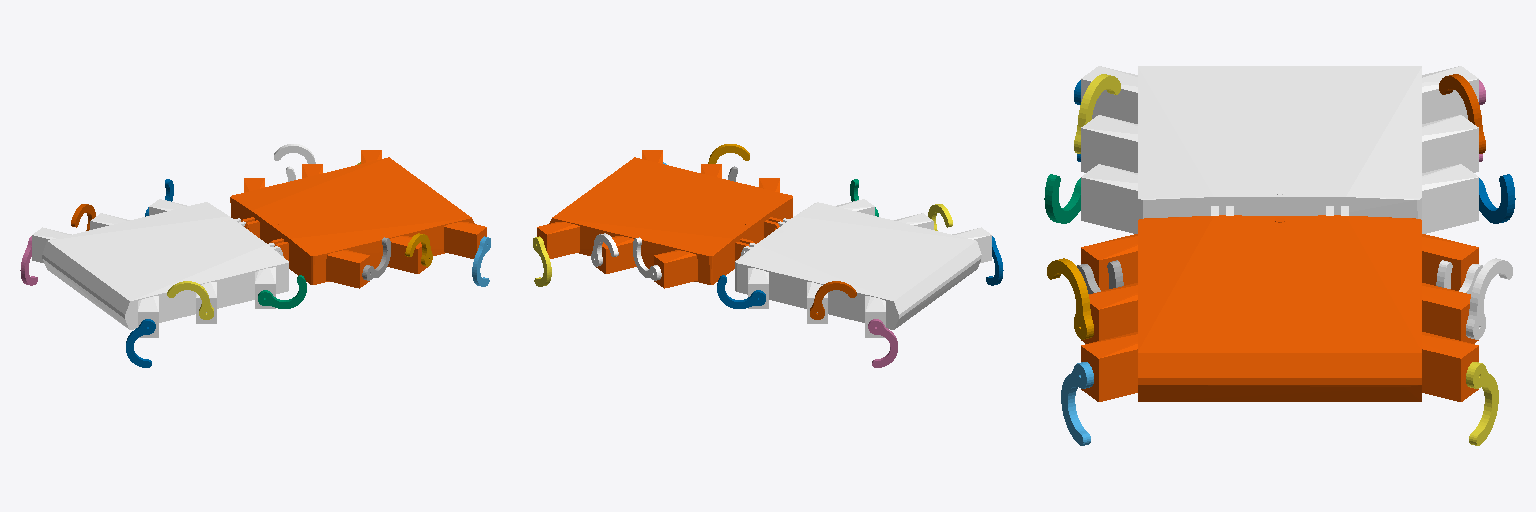
robot.urdf — strirus_gamma:
<?xml version="1.0" encoding="utf-8"?>
<!-- =================================================================================== -->
<!-- |    This document was autogenerated by xacro from [local-path]/dev_ws/src/strirus_gait_planner/physical_object/robot_description/robot_description_simulation/xarco/strirus_gamma.xacro | -->
<!-- |    EDITING THIS FILE BY HAND IS NOT RECOMMENDED                                 | -->
<!-- =================================================================================== -->
<robot name="strirus_gamma">
  <gazebo>
    <self_collide>1</self_collide>
  </gazebo>
  <!--  <xacro:arg name="namespace" default="/"/>
        <xacro:property name="namespace" value="$(arg namespace)" /> -->
  <!-- Constants for simulating -->
  <!-- Xacro arg provides xacro.py file.xacro real_number_of_legs:=12 -->
  <!-- Import Rviz colors -->
  <material name="black">
    <color rgba="0.0 0.0 0.0 1.0"/>
  </material>
  <material name="blue">
    <color rgba="0.0 0.0 0.8 1.0"/>
  </material>
  <material name="green">
    <color rgba="0.0 0.8 0.0 1.0"/>
  </material>
  <material name="grey">
    <color rgba="0.2 0.2 0.2 1.0"/>
  </material>
  <material name="orange">
    <color rgba="1.0 0.423529411765 0.0392156862745 1.0"/>
  </material>
  <material name="brown">
    <color rgba="0.870588235294 0.811764705882 0.764705882353 1.0"/>
  </material>
  <material name="red">
    <color rgba="0.8 0.0 0.0 1.0"/>
  </material>
  <material name="white">
    <color rgba="1.0 1.0 1.0 1.0"/>
  </material>
  <!-- Body description -->
  <link name="base_footprint"/>
  <joint name="base_footprint_body_1_part_fixed" type="fixed">
    <parent link="base_footprint"/>
    <child link="body_1_part"/>
    <origin rpy="0  0  0" xyz="0 0 0.07"/>
  </joint>
  <link name="tof_camera_2"/>
  <joint name="body_2_part_tof_camera_2_fixed" type="fixed">
    <parent link="body_2_part"/>
    <child link="tof_camera_2"/>
    <origin rpy="0  0  0" xyz="0.2845 0 0"/>
  </joint>
  <link name="imu_2"/>
  <joint name="body_2_part_imu_2_fixed" type="fixed">
    <parent link="body_2_part"/>
    <child link="imu_2"/>
    <origin rpy="0  0  0" xyz="0.247 0 0"/>
  </joint>
  <!-- omni_deg in DEG!! not  in rad -->
  <!--body 1 part -->
  <link name="body_1_part">
    <inertial>
      <mass value="2.388930632"/>
      <origin rpy="0  0  0" xyz="0.093004592 -0.000003767 -0.002393165"/>
      <inertia ixx="0.028615853" ixy="-0.000001152" ixz="0.000120378" iyy="0.016244340" iyz="0.000000235" izz="0.043868564"/>
    </inertial>
    <collision>
      <origin rpy="0  0  0" xyz="0 0 0"/>
      <geometry>
        <mesh filename="../meshes/stl/collision/body_1_30_part.stl" scale="1 1 1"/>
      </geometry>
    </collision>
    <visual>
      <origin rpy="0  0  0" xyz="0 0 0"/>
      <geometry>
        <mesh filename="../meshes/stl/visual/body_1_30_part.stl" scale="1 1 1"/>
      </geometry>
      <material name="white"/>
    </visual>
  </link>
  <link name="tof_camera_1">
        </link>
  <joint name="body_1_part_tof_camera_1_fixed" type="fixed">
    <parent link="body_1_part"/>
    <child link="tof_camera_1"/>
    <origin rpy="0  0  3.14159265359" xyz="-0.0375 0 0"/>
  </joint>
  <link name="imu_1">
        </link>
  <joint name="body_1_part_imu_1_fixed" type="fixed">
    <parent link="body_1_part"/>
    <child link="imu_1"/>
    <origin rpy="0  0  0" xyz="0 0 0"/>
  </joint>
  <!--body 2 part -->
  <link name="body_2_part">
    <inertial>
      <mass value="2.355831379"/>
      <origin rpy="0  0  0" xyz="0.154054200 0.000005875 -0.002719841"/>
      <inertia ixx="0.028590553" ixy="-0.000001706" ixz="-0.000116523" iyy="0.016208890" iyz="-0.000000101" izz="0.043844764"/>
    </inertial>
    <collision>
      <origin rpy="0  0  0" xyz="0 0 0"/>
      <geometry>
        <mesh filename="../meshes/stl/collision/body_2_30_part.stl" scale="1 1 1"/>
      </geometry>
    </collision>
    <visual>
      <origin rpy="0  0  0" xyz="0 0 0"/>
      <geometry>
        <mesh filename="../meshes/stl/visual/body_2_30_part.stl" scale="1 1 1"/>
      </geometry>
      <material name="orange"/>
    </visual>
  </link>
  <!-- bridge part -->
  <!-- brdige 1 part -->
  <link name="bridge_1_part">
    <inertial>
      <mass value="0.093452612"/>
      <origin rpy="0  0  0" xyz="0.006688724 0.000000000 0.000077504"/>
      <inertia ixx="0.000234667" ixy="0.000000000" ixz="0.000000048" iyy="0.000029584" iyz="0.000000000" izz="0.000231388"/>
    </inertial>
    <collision>
      <origin rpy="0  0  0" xyz="0 0 0"/>
      <geometry>
        <mesh filename="../meshes/stl/collision/bridge_1_part.stl" scale="1 1 1"/>
      </geometry>
    </collision>
    <visual>
      <origin rpy="0  0  0" xyz="0 0 0"/>
      <geometry>
        <mesh filename="../meshes/stl/visual/bridge_1_part.stl" scale="1 1 1"/>
      </geometry>
      <material name="white"/>
    </visual>
  </link>
  <!-- brdige 2 part -->
  <link name="bridge_2_part">
    <inertial>
      <mass value="0.093452612"/>
      <origin rpy="0  0  0" xyz="0.023311276 0.000000000 0.000077504"/>
      <inertia ixx="0.000215112" ixy="0.000000000" ixz="0.000000048" iyy="0.000029584" iyz="0.000000000" izz="0.000211832"/>
    </inertial>
    <collision>
      <origin rpy="0  0  0" xyz="-0 0 0"/>
      <geometry>
        <mesh filename="../meshes/stl/collision/bridge_2_part.stl" scale="1 1 1"/>
      </geometry>
    </collision>
    <visual>
      <origin rpy="0  0  0" xyz="-0 0 0"/>
      <geometry>
        <mesh filename="../meshes/stl/visual/bridge_2_part.stl" scale="1 1 1"/>
      </geometry>
      <material name="orange"/>
    </visual>
  </link>
  <joint name="segment_up_revolute" type="revolute">
    <parent link="bridge_1_part"/>
    <child link="bridge_2_part"/>
    <origin rpy="0 -0.0 0" xyz="0.03 0 0"/>
    <axis xyz="0 -1  0"/>
    <limit effort="5" lower="-1.308996939" upper="1.308996939" velocity="0.5"/>
  </joint>
  <joint name="segment_side_revolute" type="revolute">
    <parent link="body_1_part"/>
    <child link="bridge_1_part"/>
    <origin rpy="0 0 -0.0" xyz="0.247 0 0"/>
    <axis xyz="0 0  -1"/>
    <limit effort="5" lower="-0.261799387799" upper="0.261799387799" velocity="0.5"/>
  </joint>
  <joint name="bridge_2_part_body_2_part_fixed" type="fixed">
    <parent link="bridge_2_part"/>
    <child link="body_2_part"/>
    <origin rpy="0 0 0" xyz="0.03 0 0"/>
  </joint>
  <!--===================== Link description =====================-->
  <link name="leg_left_5">
    <inertial>
      <mass value="0.012706347"/>
      <origin rpy="0 0 0" xyz="-0.013348671 0 -0.027584119"/>
      <inertia ixx="0.000007895" ixy="0" ixz="0.000001300" iyy="0.000009763" iyz="0" izz="0.000002004"/>
    </inertial>
    <collision>
      <origin rpy="0  0  0" xyz="0 0 0"/>
      <geometry>
        <mesh filename="../meshes/stl/collision/leg_70.stl" scale="1 1 1"/>
      </geometry>
    </collision>
    <visual>
      <origin rpy="0  0  0" xyz="0 0 0"/>
      <geometry>
        <mesh filename="../meshes/stl/visual/leg_70.stl" scale="1 1 1"/>
      </geometry>
      <material name="white"/>
    </visual>
  </link>
  <!--===================== Joint description =====================-->
  <joint name="leg_left_5_revolute_joint" type="revolute">
    <child link="leg_left_5"/>
    <parent link="body_2_part"/>
    <origin rpy="0       10.471975512        -0.523598775598" xyz="0.06325 0.1789304353  0"/>
    <!--=============== Joint properties ===============-->
    <axis xyz="0 -1  0"/>
    <!-- Check -->
    <limit effort="1.5" lower="-1e+5" upper="1e+5" velocity="3.0"/>
  </joint>
  <!--===================== Link description =====================-->
  <link name="leg_left_4">
    <inertial>
      <mass value="0.012706347"/>
      <origin rpy="0 0 0" xyz="-0.013348671 0 -0.027584119"/>
      <inertia ixx="0.000007895" ixy="0" ixz="0.000001300" iyy="0.000009763" iyz="0" izz="0.000002004"/>
    </inertial>
    <collision>
      <origin rpy="0  0  0" xyz="0 0 0"/>
      <geometry>
        <mesh filename="../meshes/stl/collision/leg_70.stl" scale="1 1 1"/>
      </geometry>
    </collision>
    <visual>
      <origin rpy="0  0  0" xyz="0 0 0"/>
      <geometry>
        <mesh filename="../meshes/stl/visual/leg_70.stl" scale="1 1 1"/>
      </geometry>
      <material name="white"/>
    </visual>
  </link>
  <!--===================== Joint description =====================-->
  <joint name="leg_left_4_revolute_joint" type="revolute">
    <child link="leg_left_4"/>
    <parent link="body_2_part"/>
    <origin rpy="0       8.37758040957        -0.523598775598" xyz="0.16925 0.1789304353  0"/>
    <!--=============== Joint properties ===============-->
    <axis xyz="0 -1  0"/>
    <!-- Check -->
    <limit effort="1.5" lower="-1e+5" upper="1e+5" velocity="3.0"/>
  </joint>
  <!--===================== Link description =====================-->
  <link name="leg_left_3">
    <inertial>
      <mass value="0.012706347"/>
      <origin rpy="0 0 0" xyz="-0.013348671 0 -0.027584119"/>
      <inertia ixx="0.000007895" ixy="0" ixz="0.000001300" iyy="0.000009763" iyz="0" izz="0.000002004"/>
    </inertial>
    <collision>
      <origin rpy="0  0  0" xyz="0 0 0"/>
      <geometry>
        <mesh filename="../meshes/stl/collision/leg_70.stl" scale="1 1 1"/>
      </geometry>
    </collision>
    <visual>
      <origin rpy="0  0  0" xyz="0 0 0"/>
      <geometry>
        <mesh filename="../meshes/stl/visual/leg_70.stl" scale="1 1 1"/>
      </geometry>
    </visual>
  </link>
  <!--===================== Joint description =====================-->
  <joint name="leg_left_3_revolute_joint" type="revolute">
    <child link="leg_left_3"/>
    <parent link="body_2_part"/>
    <origin rpy="0       6.28318530718        -0.523598775598" xyz="0.27525 0.1789304353  0"/>
    <!--=============== Joint properties ===============-->
    <axis xyz="0 -1  0"/>
    <!-- Check -->
    <limit effort="1.5" lower="-1e+5" upper="1e+5" velocity="3.0"/>
  </joint>
  <!--===================== Link description =====================-->
  <link name="leg_left_2">
    <inertial>
      <mass value="0.012706347"/>
      <origin rpy="0 0 0" xyz="-0.013348671 0 -0.027584119"/>
      <inertia ixx="0.000007895" ixy="0" ixz="0.000001300" iyy="0.000009763" iyz="0" izz="0.000002004"/>
    </inertial>
    <collision>
      <origin rpy="0  0  0" xyz="0 0 0"/>
      <geometry>
        <mesh filename="../meshes/stl/collision/leg_70.stl" scale="1 1 1"/>
      </geometry>
    </collision>
    <visual>
      <origin rpy="0  0  0" xyz="0 0 0"/>
      <geometry>
        <mesh filename="../meshes/stl/visual/leg_70.stl" scale="1 1 1"/>
      </geometry>
    </visual>
  </link>
  <!--===================== Joint description =====================-->
  <joint name="leg_left_2_revolute_joint" type="revolute">
    <child link="leg_left_2"/>
    <parent link="body_1_part"/>
    <origin rpy="0       4.18879020479        0.523598775598" xyz="0.18375 0.1789304353  0"/>
    <!--=============== Joint properties ===============-->
    <axis xyz="0 -1  0"/>
    <!-- Check -->
    <limit effort="1.5" lower="-1e+5" upper="1e+5" velocity="3.0"/>
  </joint>
  <!--===================== Link description =====================-->
  <link name="leg_left_1">
    <inertial>
      <mass value="0.012706347"/>
      <origin rpy="0 0 0" xyz="-0.013348671 0 -0.027584119"/>
      <inertia ixx="0.000007895" ixy="0" ixz="0.000001300" iyy="0.000009763" iyz="0" izz="0.000002004"/>
    </inertial>
    <collision>
      <origin rpy="0  0  0" xyz="0 0 0"/>
      <geometry>
        <mesh filename="../meshes/stl/collision/leg_70.stl" scale="1 1 1"/>
      </geometry>
    </collision>
    <visual>
      <origin rpy="0  0  0" xyz="0 0 0"/>
      <geometry>
        <mesh filename="../meshes/stl/visual/leg_70.stl" scale="1 1 1"/>
      </geometry>
    </visual>
  </link>
  <!--===================== Joint description =====================-->
  <joint name="leg_left_1_revolute_joint" type="revolute">
    <child link="leg_left_1"/>
    <parent link="body_1_part"/>
    <origin rpy="0       2.09439510239        0.523598775598" xyz="0.07775 0.1789304353  0"/>
    <!--=============== Joint properties ===============-->
    <axis xyz="0 -1  0"/>
    <!-- Check -->
    <limit effort="1.5" lower="-1e+5" upper="1e+5" velocity="3.0"/>
  </joint>
  <!--===================== Link description =====================-->
  <link name="leg_left_0">
    <inertial>
      <mass value="0.012706347"/>
      <origin rpy="0 0 0" xyz="-0.013348671 0 -0.027584119"/>
      <inertia ixx="0.000007895" ixy="0" ixz="0.000001300" iyy="0.000009763" iyz="0" izz="0.000002004"/>
    </inertial>
    <collision>
      <origin rpy="0  0  0" xyz="0 0 0"/>
      <geometry>
        <mesh filename="../meshes/stl/collision/leg_70.stl" scale="1 1 1"/>
      </geometry>
    </collision>
    <visual>
      <origin rpy="0  0  0" xyz="0 0 0"/>
      <geometry>
        <mesh filename="../meshes/stl/visual/leg_70.stl" scale="1 1 1"/>
      </geometry>
    </visual>
  </link>
  <!--===================== Joint description =====================-->
  <joint name="leg_left_0_revolute_joint" type="revolute">
    <child link="leg_left_0"/>
    <parent link="body_1_part"/>
    <origin rpy="0       0.0        0.523598775598" xyz="-0.02825 0.1789304353  0"/>
    <!--=============== Joint properties ===============-->
    <axis xyz="0 -1  0"/>
    <!-- Check -->
    <limit effort="1.5" lower="-1e+5" upper="1e+5" velocity="3.0"/>
  </joint>
  <!--===================== Link description =====================-->
  <link name="leg_right_5">
    <inertial>
      <mass value="0.012706347"/>
      <origin rpy="0 0 0" xyz="-0.013348671 0 -0.027584119"/>
      <inertia ixx="0.000007895" ixy="0" ixz="0.000001300" iyy="0.000009763" iyz="0" izz="0.000002004"/>
    </inertial>
    <collision>
      <origin rpy="0  0  0" xyz="0 0 0"/>
      <geometry>
        <mesh filename="../meshes/stl/collision/leg_70.stl" scale="1 1 1"/>
      </geometry>
    </collision>
    <visual>
      <origin rpy="0  0  0" xyz="0 0 0"/>
      <geometry>
        <mesh filename="../meshes/stl/visual/leg_70.stl" scale="1 1 1"/>
      </geometry>
    </visual>
  </link>
  <!--===================== Joint description =====================-->
  <joint name="leg_right_5_revolute_joint" type="revolute">
    <child link="leg_right_5"/>
    <parent link="body_2_part"/>
    <origin rpy="0       10.471975512        0.523598775598" xyz="0.06325 -0.1789304353  0"/>
    <!--=============== Joint properties ===============-->
    <axis xyz="0 -1  0"/>
    <!-- Check -->
    <limit effort="1.5" lower="-1e+5" upper="1e+5" velocity="3.0"/>
  </joint>
  <!--===================== Link description =====================-->
  <link name="leg_right_4">
    <inertial>
      <mass value="0.012706347"/>
      <origin rpy="0 0 0" xyz="-0.013348671 0 -0.027584119"/>
      <inertia ixx="0.000007895" ixy="0" ixz="0.000001300" iyy="0.000009763" iyz="0" izz="0.000002004"/>
    </inertial>
    <collision>
      <origin rpy="0  0  0" xyz="0 0 0"/>
      <geometry>
        <mesh filename="../meshes/stl/collision/leg_70.stl" scale="1 1 1"/>
      </geometry>
    </collision>
    <visual>
      <origin rpy="0  0  0" xyz="0 0 0"/>
      <geometry>
        <mesh filename="../meshes/stl/visual/leg_70.stl" scale="1 1 1"/>
      </geometry>
    </visual>
  </link>
  <!--===================== Joint description =====================-->
  <joint name="leg_right_4_revolute_joint" type="revolute">
    <child link="leg_right_4"/>
    <parent link="body_2_part"/>
    <origin rpy="0       8.37758040957        0.523598775598" xyz="0.16925 -0.1789304353  0"/>
    <!--=============== Joint properties ===============-->
    <axis xyz="0 -1  0"/>
    <!-- Check -->
    <limit effort="1.5" lower="-1e+5" upper="1e+5" velocity="3.0"/>
  </joint>
  <!--===================== Link description =====================-->
  <link name="leg_right_3">
    <inertial>
      <mass value="0.012706347"/>
      <origin rpy="0 0 0" xyz="-0.013348671 0 -0.027584119"/>
      <inertia ixx="0.000007895" ixy="0" ixz="0.000001300" iyy="0.000009763" iyz="0" izz="0.000002004"/>
    </inertial>
    <collision>
      <origin rpy="0  0  0" xyz="0 0 0"/>
      <geometry>
        <mesh filename="../meshes/stl/collision/leg_70.stl" scale="1 1 1"/>
      </geometry>
    </collision>
    <visual>
      <origin rpy="0  0  0" xyz="0 0 0"/>
      <geometry>
        <mesh filename="../meshes/stl/visual/leg_70.stl" scale="1 1 1"/>
      </geometry>
    </visual>
  </link>
  <!--===================== Joint description =====================-->
  <joint name="leg_right_3_revolute_joint" type="revolute">
    <child link="leg_right_3"/>
    <parent link="body_2_part"/>
    <origin rpy="0       6.28318530718        0.523598775598" xyz="0.27525 -0.1789304353  0"/>
    <!--=============== Joint properties ===============-->
    <axis xyz="0 -1  0"/>
    <!-- Check -->
    <limit effort="1.5" lower="-1e+5" upper="1e+5" velocity="3.0"/>
  </joint>
  <!--===================== Link description =====================-->
  <link name="leg_right_2">
    <inertial>
      <mass value="0.012706347"/>
      <origin rpy="0 0 0" xyz="-0.013348671 0 -0.027584119"/>
      <inertia ixx="0.000007895" ixy="0" ixz="0.000001300" iyy="0.000009763" iyz="0" izz="0.000002004"/>
    </inertial>
    <collision>
      <origin rpy="0  0  0" xyz="0 0 0"/>
      <geometry>
        <mesh filename="../meshes/stl/collision/leg_70.stl" scale="1 1 1"/>
      </geometry>
    </collision>
    <visual>
      <origin rpy="0  0  0" xyz="0 0 0"/>
      <geometry>
        <mesh filename="../meshes/stl/visual/leg_70.stl" scale="1 1 1"/>
      </geometry>
    </visual>
  </link>
  <!--===================== Joint description =====================-->
  <joint name="leg_right_2_revolute_joint" type="revolute">
    <child link="leg_right_2"/>
    <parent link="body_1_part"/>
    <origin rpy="0       4.18879020479        -0.523598775598" xyz="0.18375 -0.1789304353  0"/>
    <!--=============== Joint properties ===============-->
    <axis xyz="0 -1  0"/>
    <!-- Check -->
    <limit effort="1.5" lower="-1e+5" upper="1e+5" velocity="3.0"/>
  </joint>
  <!--===================== Link description =====================-->
  <link name="leg_right_1">
    <inertial>
      <mass value="0.012706347"/>
      <origin rpy="0 0 0" xyz="-0.013348671 0 -0.027584119"/>
      <inertia ixx="0.000007895" ixy="0" ixz="0.000001300" iyy="0.000009763" iyz="0" izz="0.000002004"/>
    </inertial>
    <collision>
      <origin rpy="0  0  0" xyz="0 0 0"/>
      <geometry>
        <mesh filename="../meshes/stl/collision/leg_70.stl" scale="1 1 1"/>
      </geometry>
    </collision>
    <visual>
      <origin rpy="0  0  0" xyz="0 0 0"/>
      <geometry>
        <mesh filename="../meshes/stl/visual/leg_70.stl" scale="1 1 1"/>
      </geometry>
    </visual>
  </link>
  <!--===================== Joint description =====================-->
  <joint name="leg_right_1_revolute_joint" type="revolute">
    <child link="leg_right_1"/>
    <parent link="body_1_part"/>
    <origin rpy="0       2.09439510239        -0.523598775598" xyz="0.07775 -0.1789304353  0"/>
    <!--=============== Joint properties ===============-->
    <axis xyz="0 -1  0"/>
    <!-- Check -->
    <limit effort="1.5" lower="-1e+5" upper="1e+5" velocity="3.0"/>
  </joint>
  <!--===================== Link description =====================-->
  <link name="leg_right_0">
    <inertial>
      <mass value="0.012706347"/>
      <origin rpy="0 0 0" xyz="-0.013348671 0 -0.027584119"/>
      <inertia ixx="0.000007895" ixy="0" ixz="0.000001300" iyy="0.000009763" iyz="0" izz="0.000002004"/>
    </inertial>
    <collision>
      <origin rpy="0  0  0" xyz="0 0 0"/>
      <geometry>
        <mesh filename="../meshes/stl/collision/leg_70.stl" scale="1 1 1"/>
      </geometry>
    </collision>
    <visual>
      <origin rpy="0  0  0" xyz="0 0 0"/>
      <geometry>
        <mesh filename="../meshes/stl/visual/leg_70.stl" scale="1 1 1"/>
      </geometry>
    </visual>
  </link>
  <!--===================== Joint description =====================-->
  <joint name="leg_right_0_revolute_joint" type="revolute">
    <child link="leg_right_0"/>
    <parent link="body_1_part"/>
    <origin rpy="0       0.0        -0.523598775598" xyz="-0.02825 -0.1789304353  0"/>
    <!--=============== Joint properties ===============-->
    <axis xyz="0 -1  0"/>
    <!-- Check -->
    <limit effort="1.5" lower="-1e+5" upper="1e+5" velocity="3.0"/>
  </joint>
</robot>

--- Render facts (derived) ---
3 views of the same robot in one strip: view 1: azimuth 30°, elevation 25°; view 2: azimuth 150°, elevation 25°; view 3: azimuth 270°, elevation 25° (orthographic).
Robot: strirus_gamma — 21 links, 20 joints (14 revolute, 6 fixed); root link base_footprint; default pose: all joints at 0.
Links seen in each view (by area): view 1: body_1_part, body_2_part, leg_right_2, leg_right_1, leg_right_0, bridge_2_part; view 2: body_1_part, body_2_part, leg_left_2, leg_left_1, leg_left_0, bridge_2_part; view 3: body_2_part, body_1_part, leg_left_4, leg_right_4, leg_left_3, leg_right_3, leg_left_2, leg_right_2, leg_left_1, leg_right_1, bridge_1_part, leg_left_5 (+1 smaller).
Boxes of the visible links, bbox=[...] form: body_1_part: bbox=[32, 199, 288, 337]; body_2_part: bbox=[230, 150, 486, 288]; leg_right_2: bbox=[258, 275, 306, 308]; leg_right_1: bbox=[167, 281, 213, 319]; leg_right_0: bbox=[126, 319, 155, 367]; bridge_2_part: bbox=[241, 215, 290, 267]; body_1_part: bbox=[735, 199, 991, 337]; body_2_part: bbox=[537, 150, 792, 288]; leg_left_2: bbox=[717, 275, 765, 308]; leg_left_1: bbox=[810, 281, 856, 319]; leg_left_0: bbox=[868, 319, 897, 367]; bridge_2_part: bbox=[733, 214, 782, 267]; body_2_part: bbox=[1081, 216, 1478, 401]; body_1_part: bbox=[1081, 66, 1478, 233]; leg_left_4: bbox=[1466, 258, 1512, 339]; leg_right_4: bbox=[1047, 258, 1093, 339]; leg_left_3: bbox=[1466, 362, 1498, 445]; leg_right_3: bbox=[1061, 362, 1093, 445]; leg_left_2: bbox=[1479, 174, 1515, 223]; leg_right_2: bbox=[1044, 174, 1080, 223]; leg_left_1: bbox=[1439, 74, 1485, 153]; leg_right_1: bbox=[1074, 74, 1120, 153]; bridge_1_part: bbox=[1211, 190, 1348, 215]; leg_left_5: bbox=[1436, 260, 1482, 293].
Size in the robot's own frame: 0.656 by 0.4301 by 0.1225 metres.
Meshes: 5 distinct files referenced, 16 mesh visuals loaded (5 binary STL).
